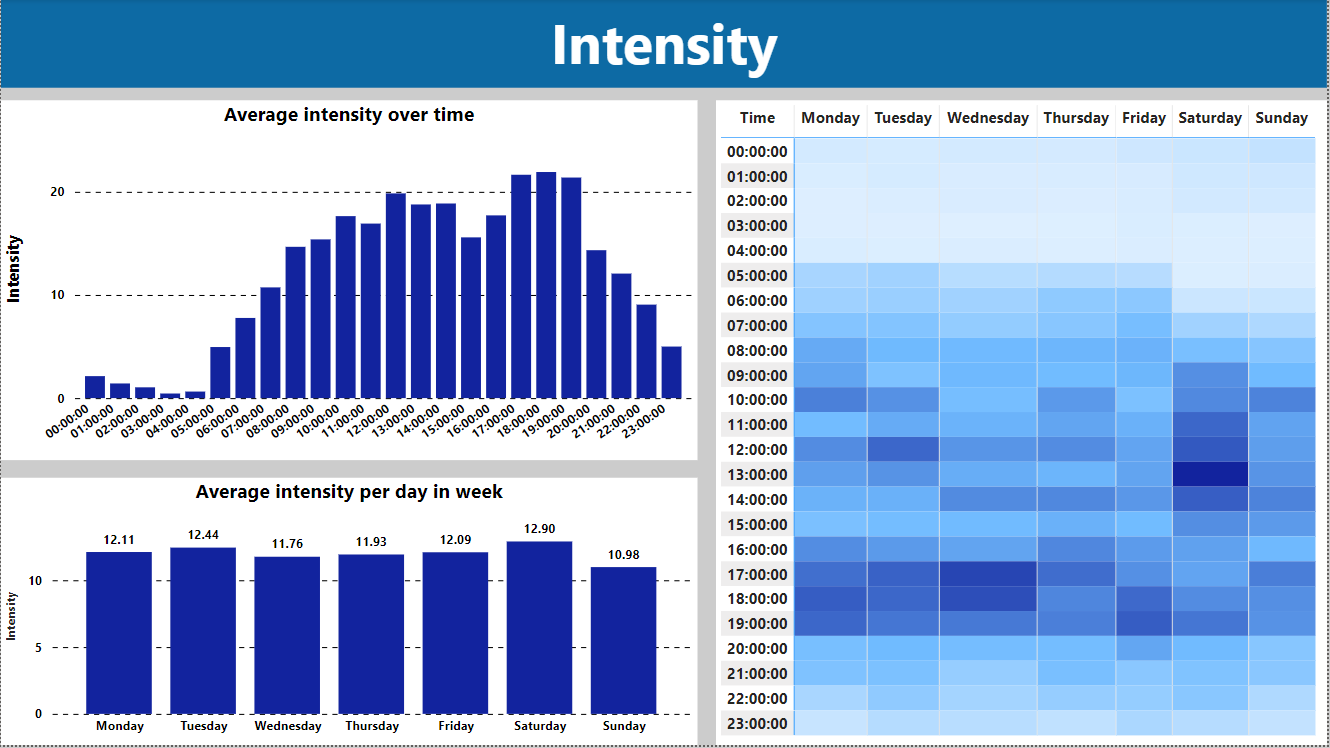

What the dashboard file says about the page in this screenshot:
{"tool":"powerbi","page":{"name":"Intensity","canvas":[1280,720],"ordinal":3},"visuals":[{"type":"clusteredColumnChart","title":"Average intensity over time","fields":{"Category":["hourlyIntensities_merged.Time"],"Y":["Avg(hourlyIntensities_merged.TotalIntensity)"]},"box":[0,97.7,671.8,347.3],"z":0},{"type":"clusteredColumnChart","title":"Average intensity per day in week","fields":{"Y":["Avg(hourlyIntensities_merged.TotalIntensity)"],"Category":["hourlyIntensities_merged.Day of Week Name"]},"box":[0,461.9,671.8,258.1],"z":1000},{"type":"pivotTable","title":"Int","fields":{"Rows":["hourlyIntensities_merged.Time"],"Values":["Avg(hourlyIntensities_merged.TotalIntensity)"],"Columns":["hourlyIntensities_merged.Day of Week Name"]},"box":[689.8,97.7,589.7,622.3],"z":2000},{"type":"textbox","box":[0,0,1279.6,85.6],"z":3000}]}

Visuals, with their boxes in screenshot pixels (x1, y1, x2, y2), scaled from the page's 1280x720 canvas onto the 1330x748 screenshot:
"Average intensity over time" clusteredColumnChart: <bbox>0, 101, 698, 462</bbox>
"Average intensity per day in week" clusteredColumnChart: <bbox>0, 480, 698, 747</bbox>
"Int" pivotTable: <bbox>717, 101, 1329, 747</bbox>
textbox: <bbox>0, 0, 1329, 89</bbox>
